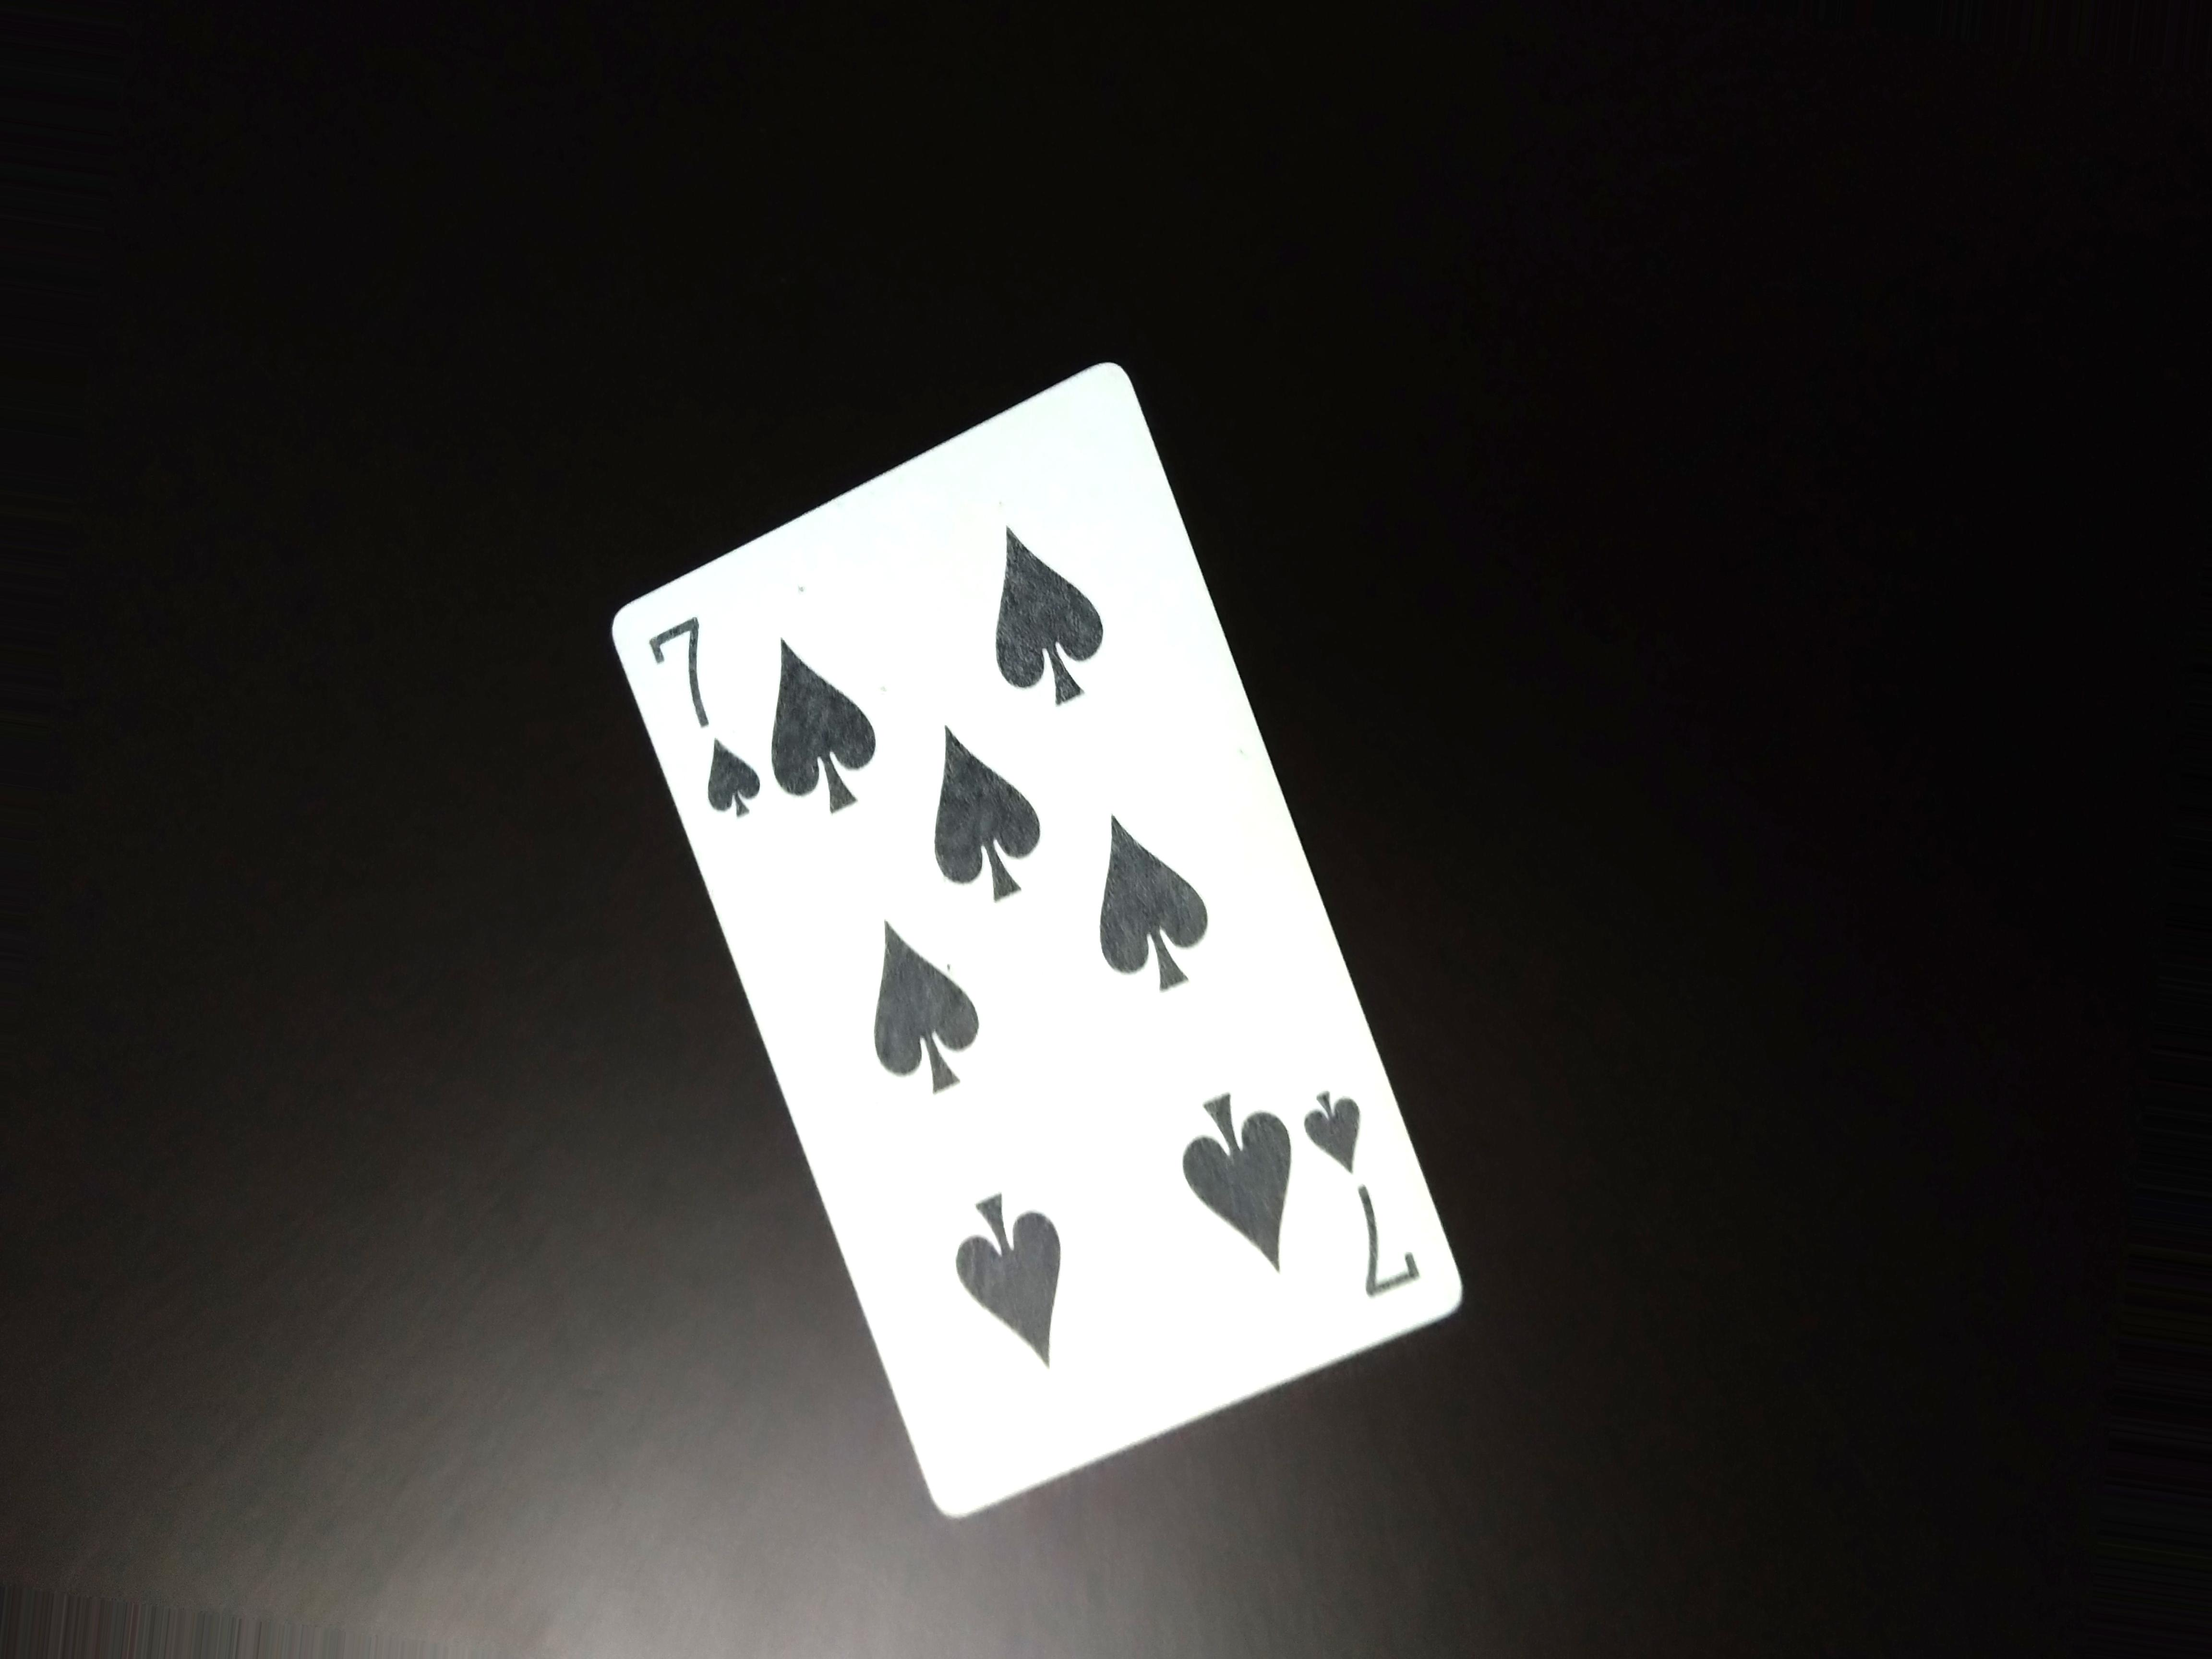7S: (1292, 1086, 1446, 1321)
